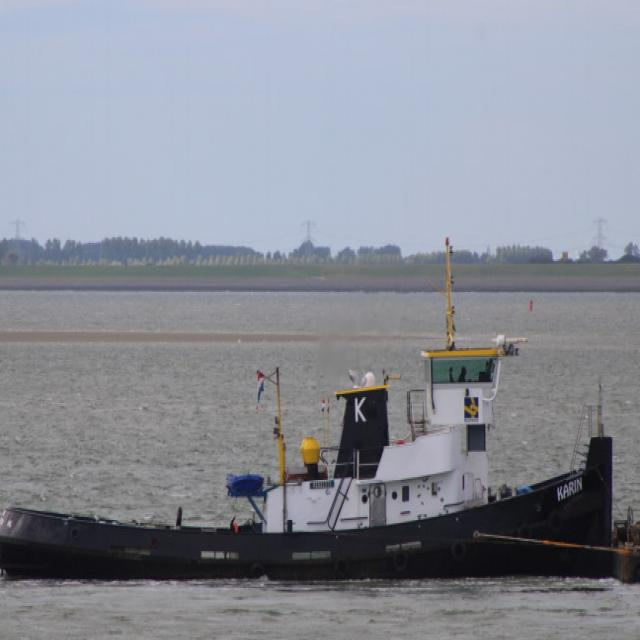tugboat: (1, 326, 622, 603)
